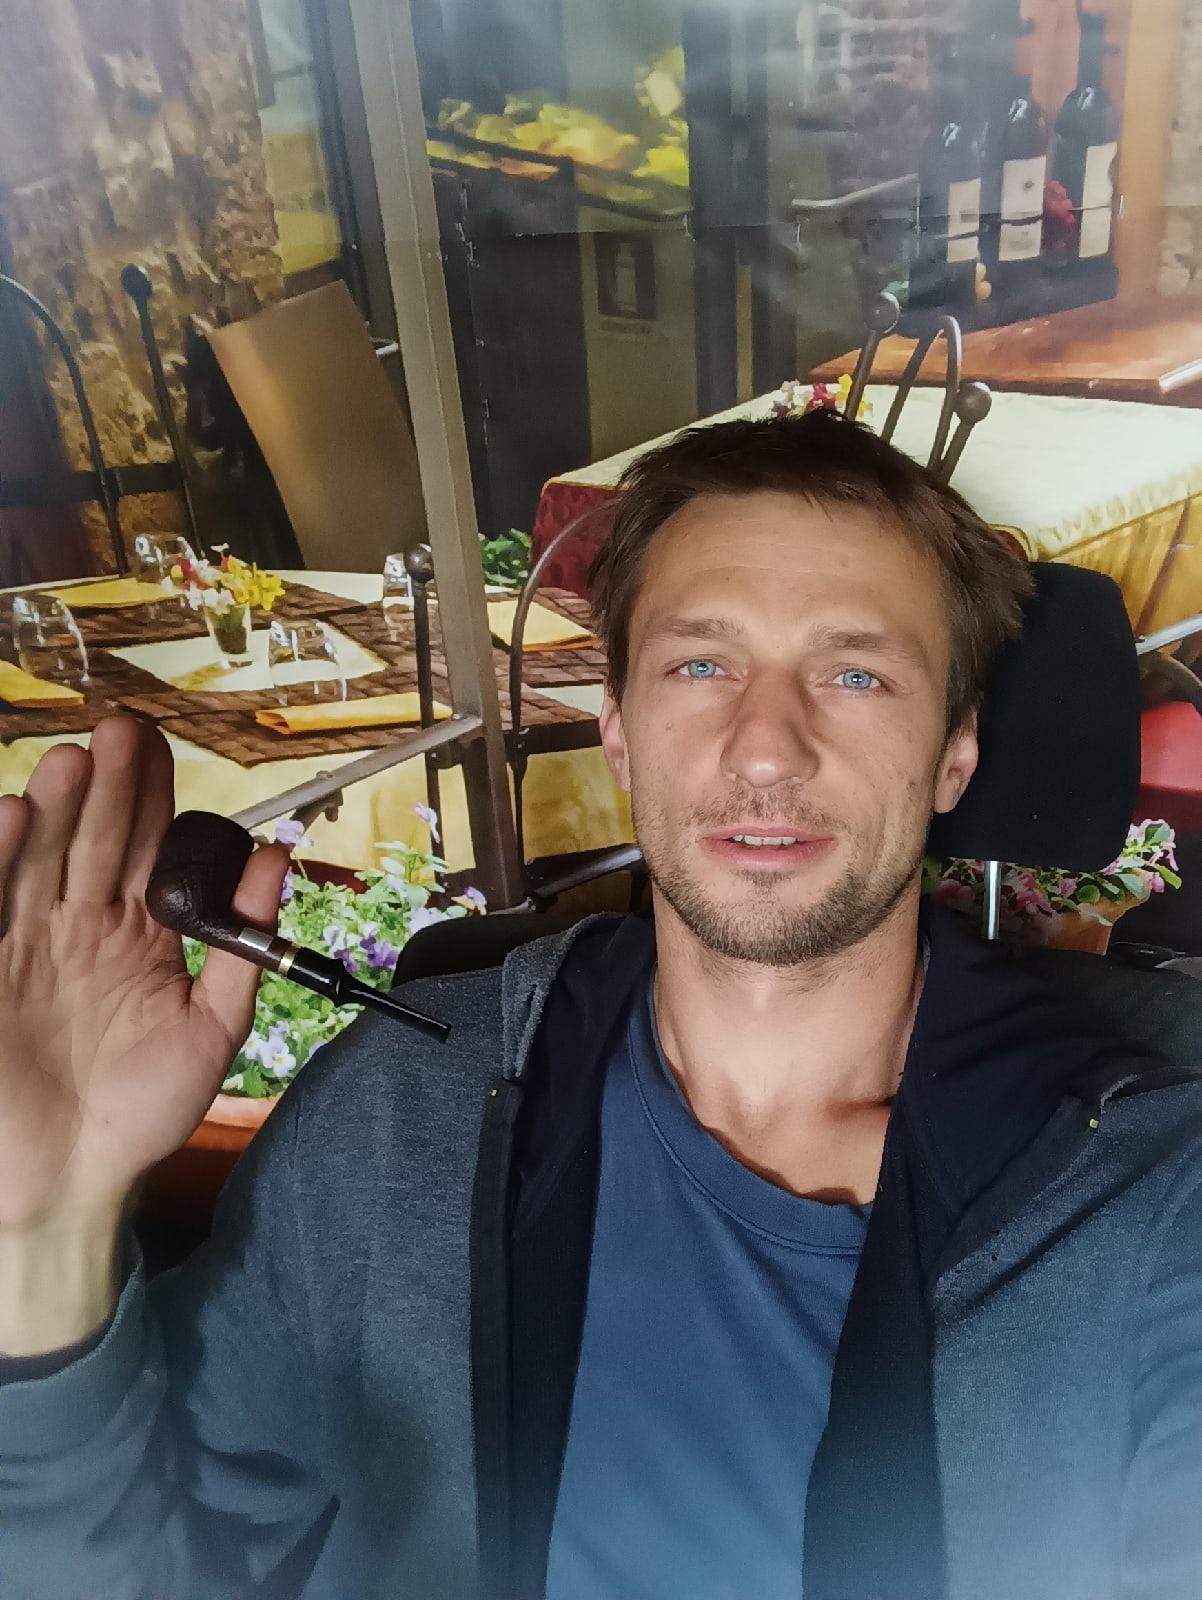trubka: (146, 811, 449, 1042)
